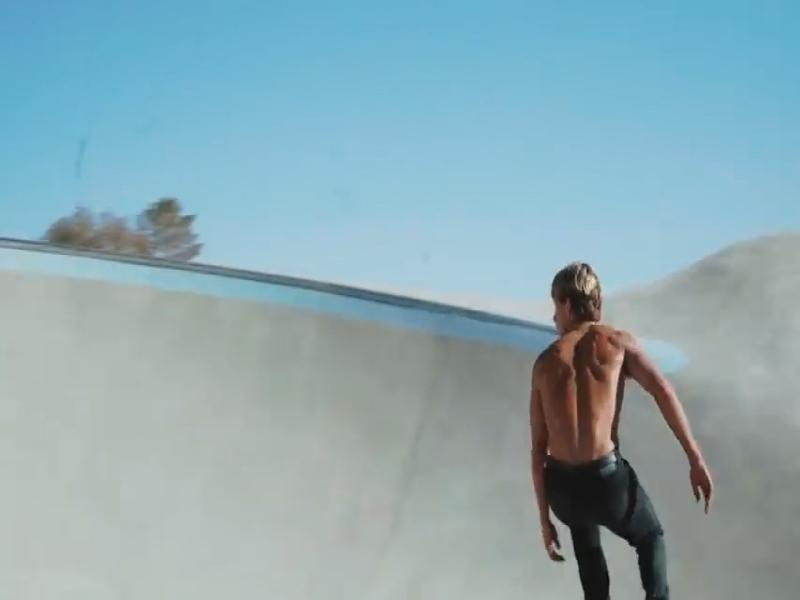person: (531, 263, 712, 600)
